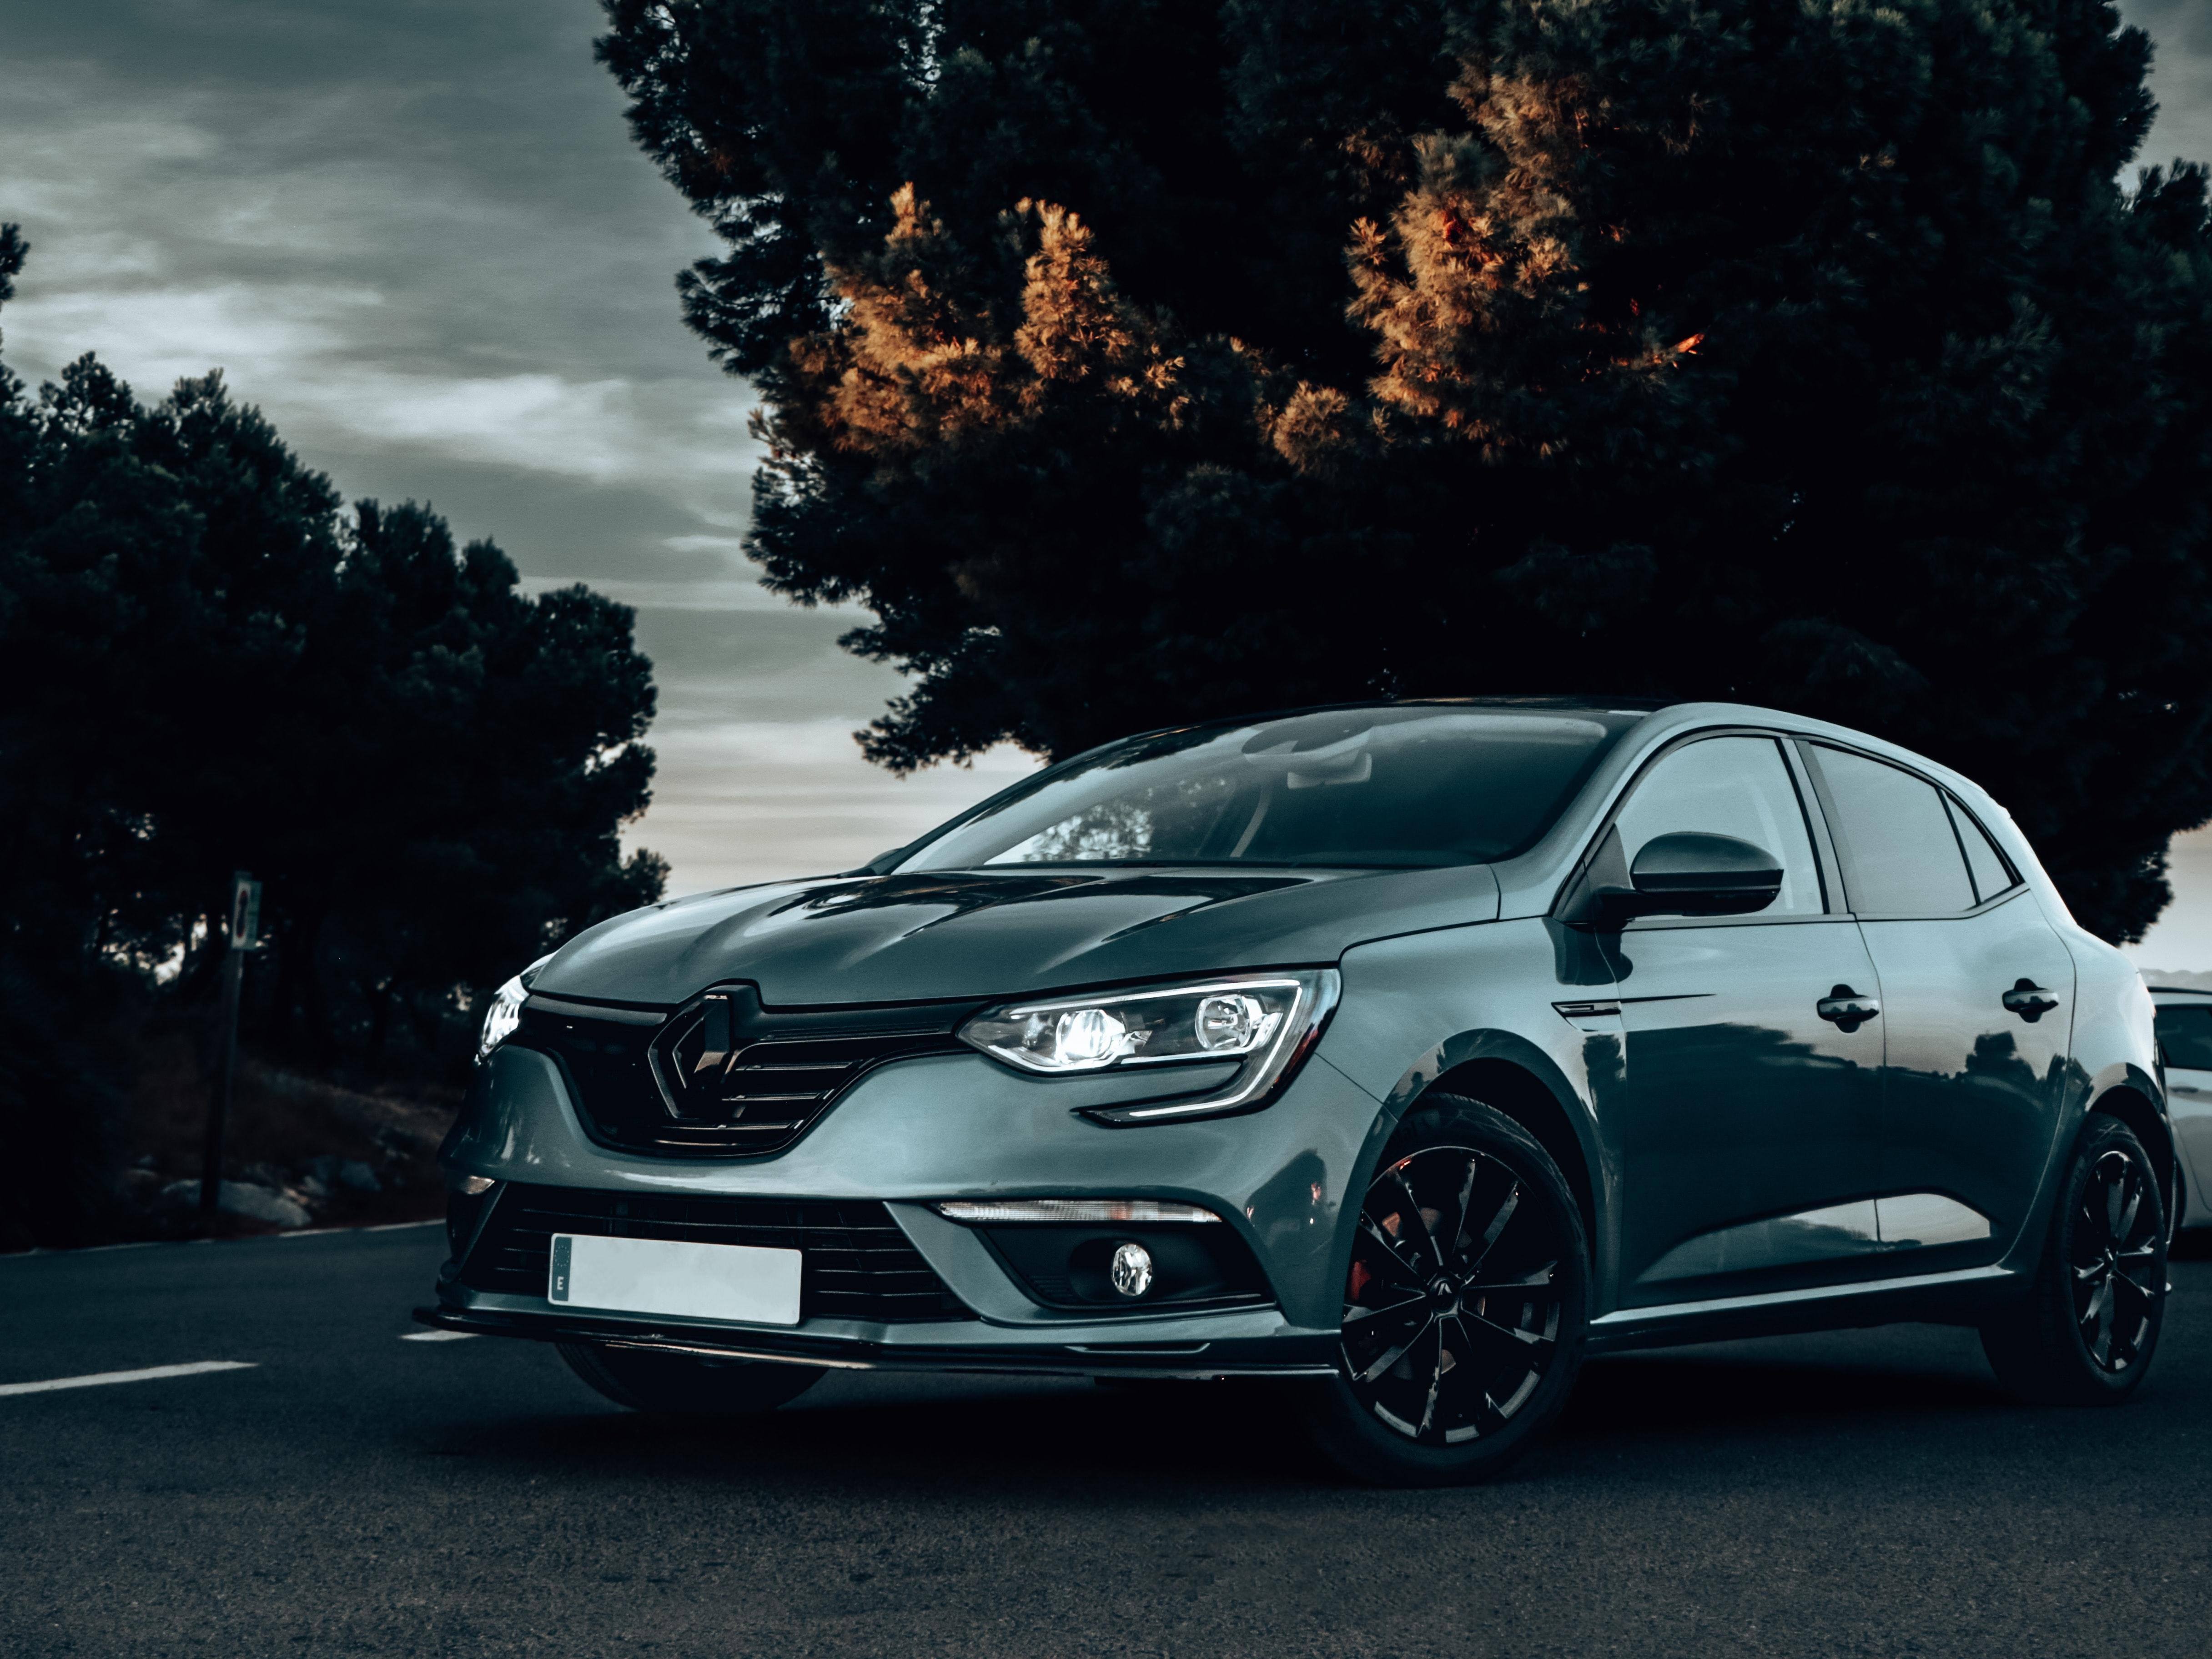Renault: (637, 979, 782, 1134)
